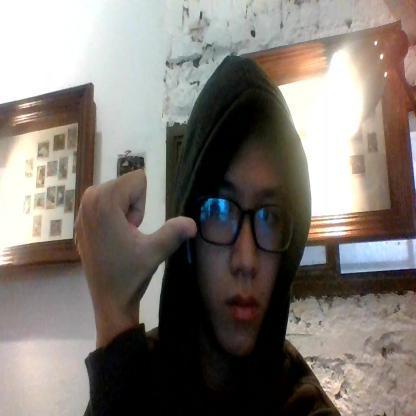left: (73, 168, 197, 302)
